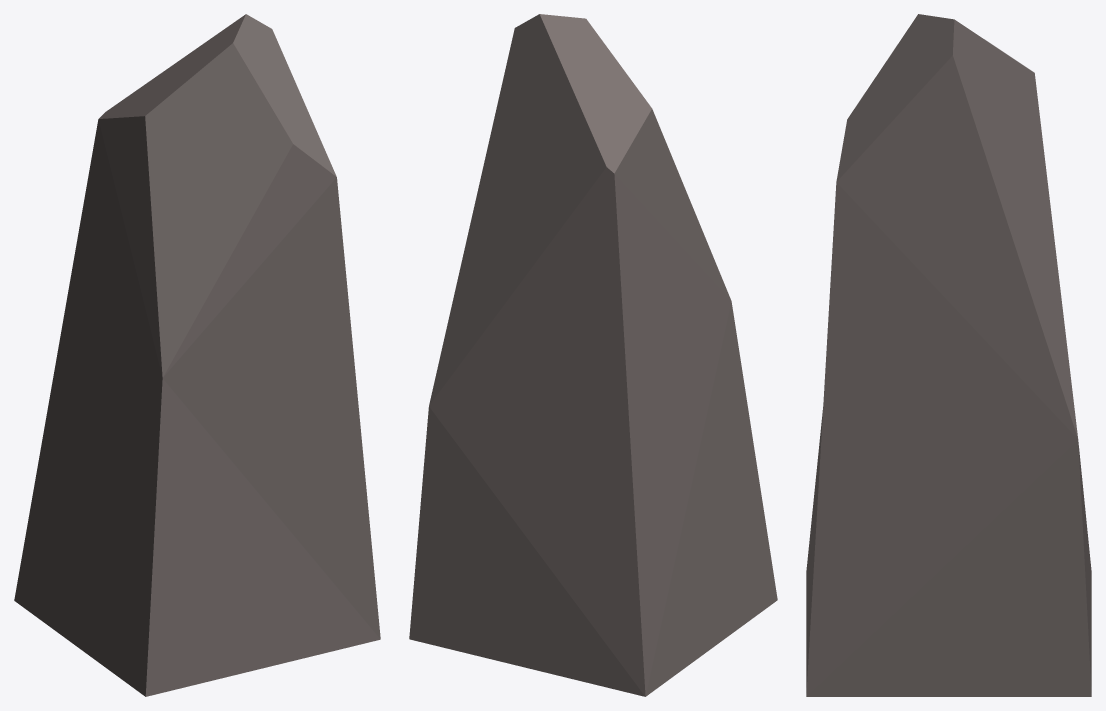
The model's file is Rock_Sharp_s_05.fbx.
The picture shows the model from 3 angles, left to right: view 1: azimuth 30°, elevation 25°; view 2: azimuth 150°, elevation 25°; view 3: azimuth 270°, elevation 25°; orthographic projection. The views are drawn at different scales.
Visible parts, largest first — view 1: Rock_Sharp_s_05; view 2: Rock_Sharp_s_05; view 3: Rock_Sharp_s_05.
Part boxes in pixels (x1=…): Rock_Sharp_s_05: x1=14, y1=14, x2=380, y2=696; Rock_Sharp_s_05: x1=409, y1=14, x2=777, y2=696; Rock_Sharp_s_05: x1=806, y1=14, x2=1091, y2=696.
Size of the model in its own units: 33.24 by 79.97 by 32.2.
